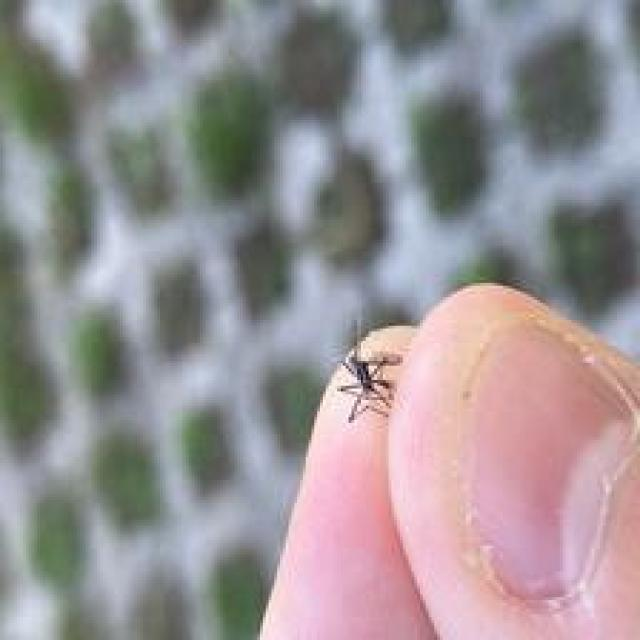Aedes albopictus: (336, 343, 404, 423)
